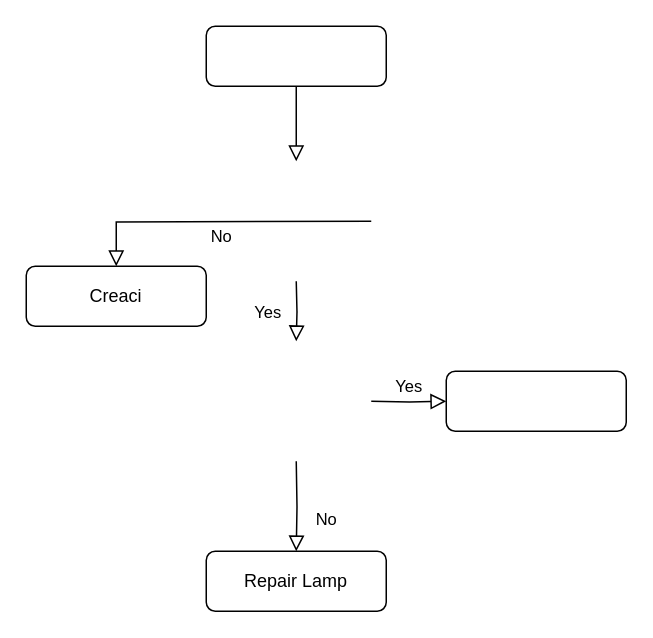
This 653x638 diagram has some shape labels left out. The shapes that lost their labels are listed below. From the top down, each one's centre as x and y in pixels, then its label:
pixel 295 55: Lamp doesn't work
pixel 535 400: Replace Bulb
